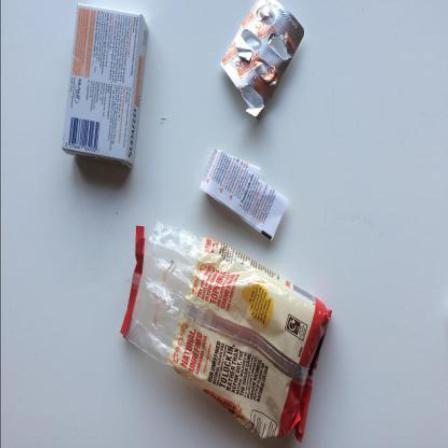Carton: (62, 4, 149, 169)
Other litter: (221, 1, 305, 122)
Paper: (201, 149, 290, 242)
Plastic bag - wrapper: (121, 221, 333, 444)
